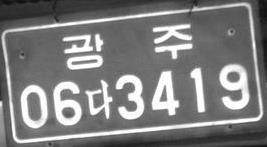0: (19, 83, 48, 128)
1: (182, 67, 212, 113)
3: (115, 73, 145, 121)
4: (150, 70, 180, 116)
6: (51, 80, 82, 126)
9: (218, 63, 251, 110)
광주_D: (62, 22, 193, 70)
다: (84, 79, 113, 120)
